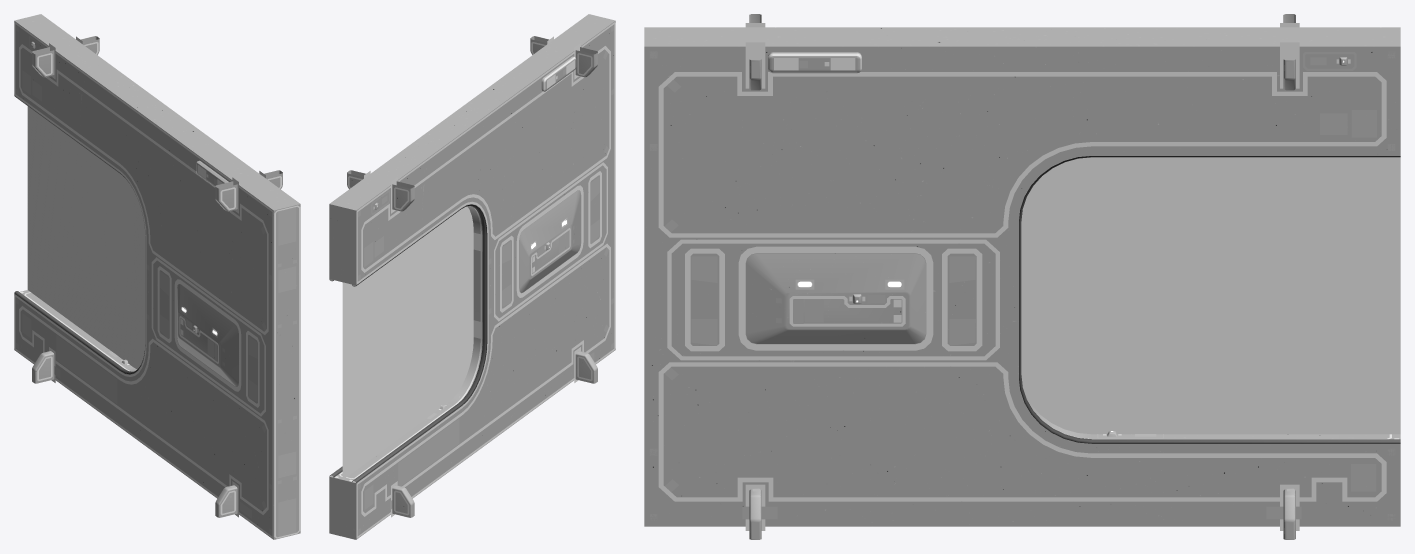
Rendered from SM_Modular_IndoorWallWindow_1_Merged.fbx.
The picture shows the model from 3 angles, left to right: view 1: azimuth 30°, elevation 25°; view 2: azimuth 150°, elevation 25°; view 3: azimuth 270°, elevation 25°; orthographic projection. The views are drawn at different scales.
Visible parts, largest first — view 1: SM_Modular_IndoorWallWindow_1_Merged_LOD0; view 2: SM_Modular_IndoorWallWindow_1_Merged_LOD0; view 3: SM_Modular_IndoorWallWindow_1_Merged_LOD0.
Part boxes in pixels (box(x1,y1,x2,y2)): SM_Modular_IndoorWallWindow_1_Merged_LOD0: box(14, 14, 300, 539); SM_Modular_IndoorWallWindow_1_Merged_LOD0: box(329, 14, 615, 539); SM_Modular_IndoorWallWindow_1_Merged_LOD0: box(644, 14, 1400, 539).
Size of the model in its own units: 72.43 by 500 by 357.
